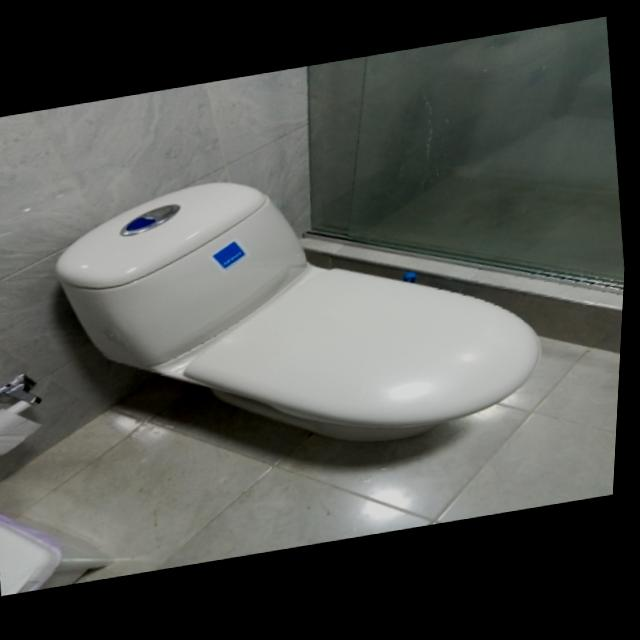toilet: (42, 132, 563, 496)
